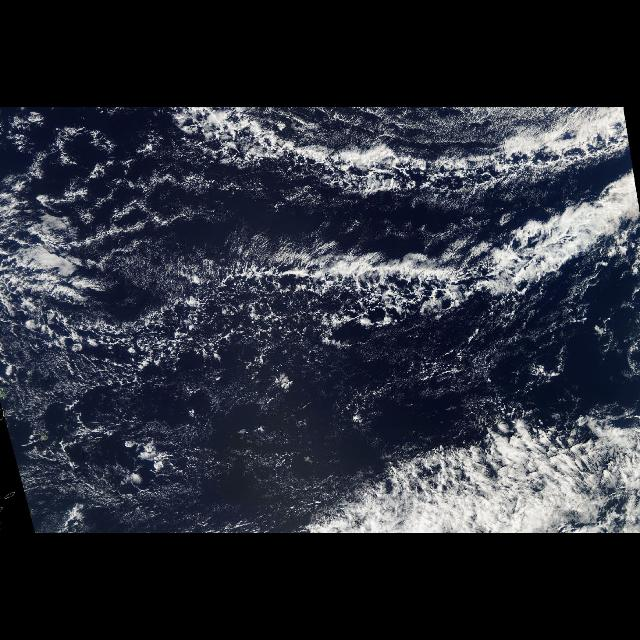Fish: (5, 108, 640, 378)
